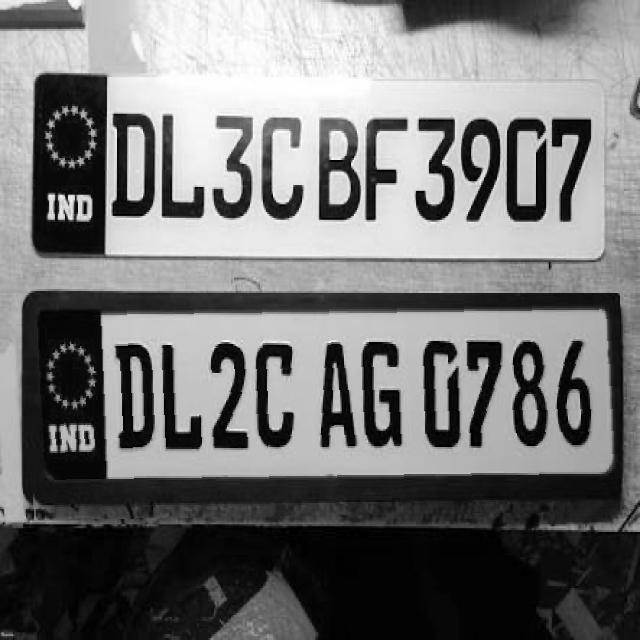licence: (24, 293, 620, 520)
